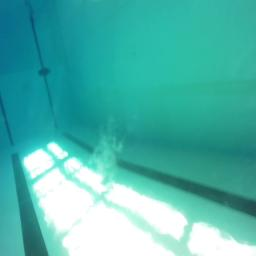Full: (38, 69, 50, 75)
